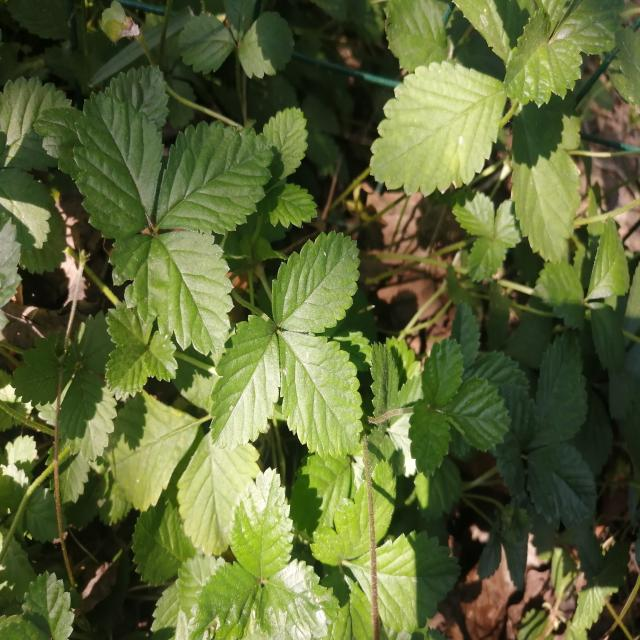Mock_strawberry: (61, 84, 264, 354), (200, 220, 382, 462), (397, 322, 528, 493)
